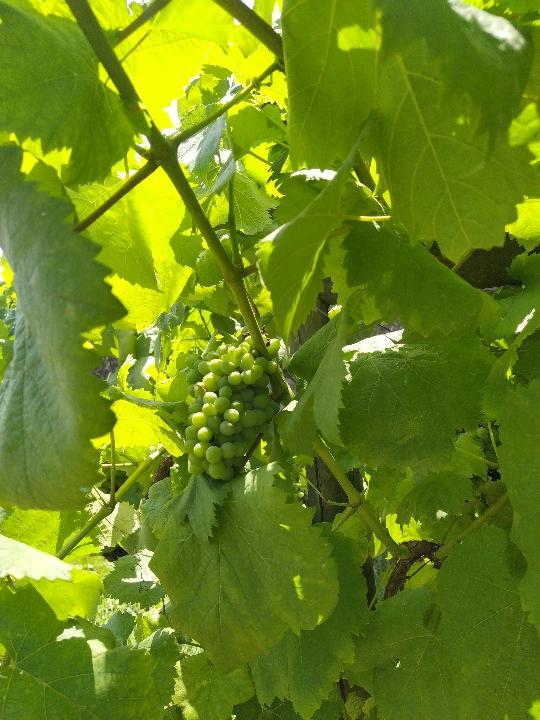grape: (181, 329, 283, 482)
